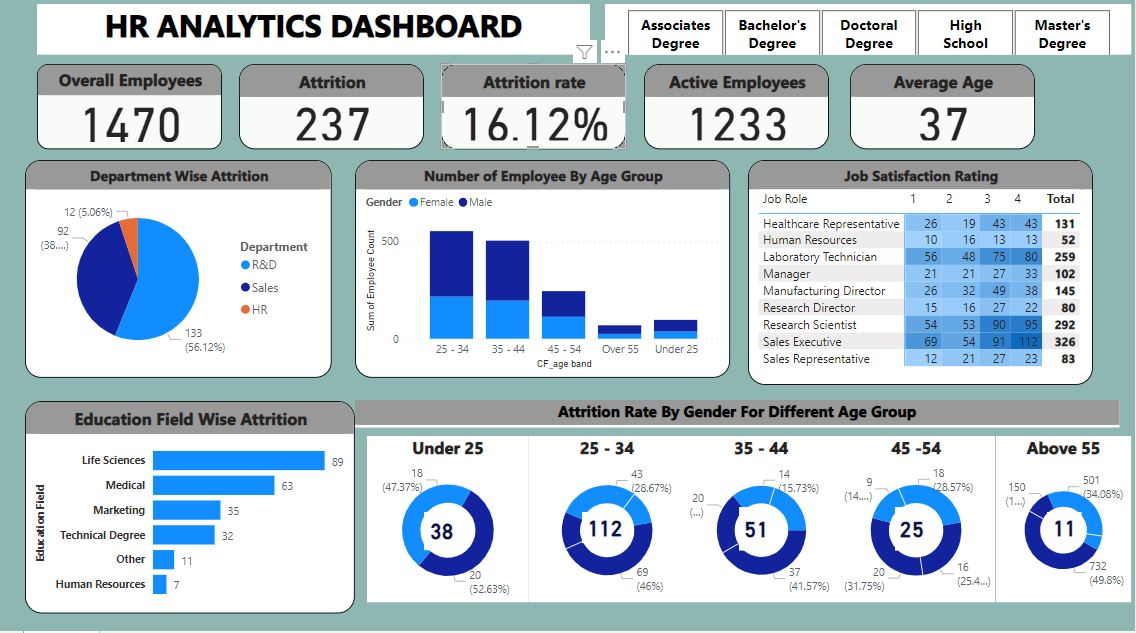

This screenshot's page, from the dashboard's own definition file:
{"tool":"powerbi","page":{"name":"Page 1","canvas":[1280,720],"ordinal":0},"visuals":[{"type":"card","title":"Overall Employees","fields":{"Values":["Sum(HR data.Employee Count)"]},"box":[43.9,82.1,208.1,95.6],"z":0},{"type":"card","title":"Attrition","fields":{"Values":["Sum(HR data.Attrition count)"]},"box":[271.1,82.1,208.1,95.6],"z":1000},{"type":"card","title":"Attrition rate ","fields":{"Values":["HR data.Attrition rate"]},"box":[498.4,82.1,208.1,95.6],"z":2000},{"type":"card","title":"Active Employees","fields":{"Values":["HR data.Active Employees"]},"box":[726.8,82.1,208.1,95.6],"z":3000},{"type":"card","title":"Average Age","fields":{"Values":["Avg(HR data.Age)"]},"box":[958.5,82.1,208.1,95.6],"z":4000},{"type":"pieChart","title":"Department Wise Attrition","fields":{"Category":["HR data.Department"],"Y":["Sum(HR data.Attrition count)"]},"box":[30.8,189.8,345,245],"z":5000},{"type":"columnChart","title":"Number of Employee By Age Group","fields":{"Category":["HR data.CF_age band"],"Y":["Sum(HR data.Employee Count)"],"Series":["HR data.Gender"]},"box":[402.1,189.8,421.9,245.2],"z":6000},{"type":"pivotTable","title":"Job Satisfaction Rating ","fields":{"Rows":["HR data.Job Role"],"Columns":["HR data.Job Satisfaction"],"Values":["Sum(HR data.Employee Count)"]},"box":[844.2,189.8,388.1,253.1],"z":7000},{"type":"barChart","title":" Education Field Wise Attrition","fields":{"Category":["HR data.Education Field"],"Y":["Sum(HR data.Attrition count)"]},"box":[30.8,460.9,371.2,238.5],"z":8000},{"type":"donutChart","title":"Under 25","fields":{"Series":["HR data.CF_age band"],"Y":["Sum(HR data.Attrition count)"],"Category":["HR data.Gender"]},"box":[415,500.8,182.1,187.3],"z":9000},{"type":"textbox","title":"Attrition Rate By Gender For Different Age Group","box":[402,460.5,859.8,31.2],"z":10000},{"type":"donutChart","title":" 25 - 34","fields":{"Series":["HR data.CF_age band"],"Y":["Sum(HR data.Attrition count)"],"Category":["HR data.Gender"]},"box":[597.1,500.8,175.6,187.3],"z":11000},{"type":"donutChart","title":"35 - 44","fields":{"Series":["HR data.CF_age band"],"Y":["Sum(HR data.Attrition count)"],"Category":["HR data.Gender"]},"box":[772.7,500.8,171.7,187.3],"z":12000},{"type":"donutChart","title":"45 -54","fields":{"Series":["HR data.CF_age band"],"Y":["Sum(HR data.Attrition count)"],"Category":["HR data.Gender"]},"box":[944.4,500.8,178.2,187.3],"z":13000},{"type":"card","fields":{"Values":["Sum(HR data.Attrition count)"]},"box":[478.7,586.7,40.3,42.9],"z":14000},{"type":"donutChart","title":"Above 55","fields":{"Category":["HR data.Gender"],"Y":["CountNonNull(HR data.CF_age band)"],"Series":["HR data.Attrition count"]},"box":[1122.6,500.8,152.2,187.3],"z":15000},{"type":"card","fields":{"Values":["Sum(HR data.Attrition count)"]},"box":[656.9,586.7,50.7,35.1],"z":16000},{"type":"card","fields":{"Values":["Sum(HR data.Attrition count)"]},"box":[833.8,580.2,37.7,49.4],"z":17000},{"type":"card","fields":{"Values":["Sum(HR data.Attrition count)"]},"box":[1009.4,580.2,37.7,49.4],"z":18000},{"type":"card","fields":{"Values":["Sum(HR data.Attrition count)"]},"box":[1179.8,586.7,39,35.1],"z":19000},{"type":"textbox","title":"HR ANALYTICS DASHBOARD","box":[43.9,14.6,622.1,57.4],"z":20000},{"type":"slicer","fields":{"Values":["HR data.Education"]},"box":[682.9,14.6,591.8,57.4],"z":21000}]}

Visuals, with their boxes in screenshot pixels (x1, y1, x2, y2), scaled from the page's 1280x720 canvas onto the 1136x633 screenshot:
"Overall Employees" card: [39, 72, 224, 156]
"Attrition" card: [241, 72, 425, 156]
"Attrition rate " card: [442, 72, 627, 156]
"Active Employees" card: [645, 72, 830, 156]
"Average Age" card: [851, 72, 1035, 156]
"Department Wise Attrition" pieChart: [27, 167, 334, 382]
"Number of Employee By Age Group" columnChart: [357, 167, 731, 382]
"Job Satisfaction Rating " pivotTable: [749, 167, 1094, 389]
" Education Field Wise Attrition" barChart: [27, 405, 357, 615]
"Under 25" donutChart: [368, 440, 530, 605]
"Attrition Rate By Gender For Different Age Group" textbox: [357, 405, 1120, 432]
" 25 - 34" donutChart: [530, 440, 686, 605]
"35 - 44" donutChart: [686, 440, 838, 605]
"45 -54" donutChart: [838, 440, 996, 605]
card - Sum(HR data.Attrition count): [425, 516, 461, 554]
"Above 55" donutChart: [996, 440, 1131, 605]
card - Sum(HR data.Attrition count): [583, 516, 628, 547]
card - Sum(HR data.Attrition count): [740, 510, 773, 554]
card - Sum(HR data.Attrition count): [896, 510, 929, 554]
card - Sum(HR data.Attrition count): [1047, 516, 1082, 547]
"HR ANALYTICS DASHBOARD" textbox: [39, 13, 591, 63]
slicer - HR data.Education: [606, 13, 1131, 63]
